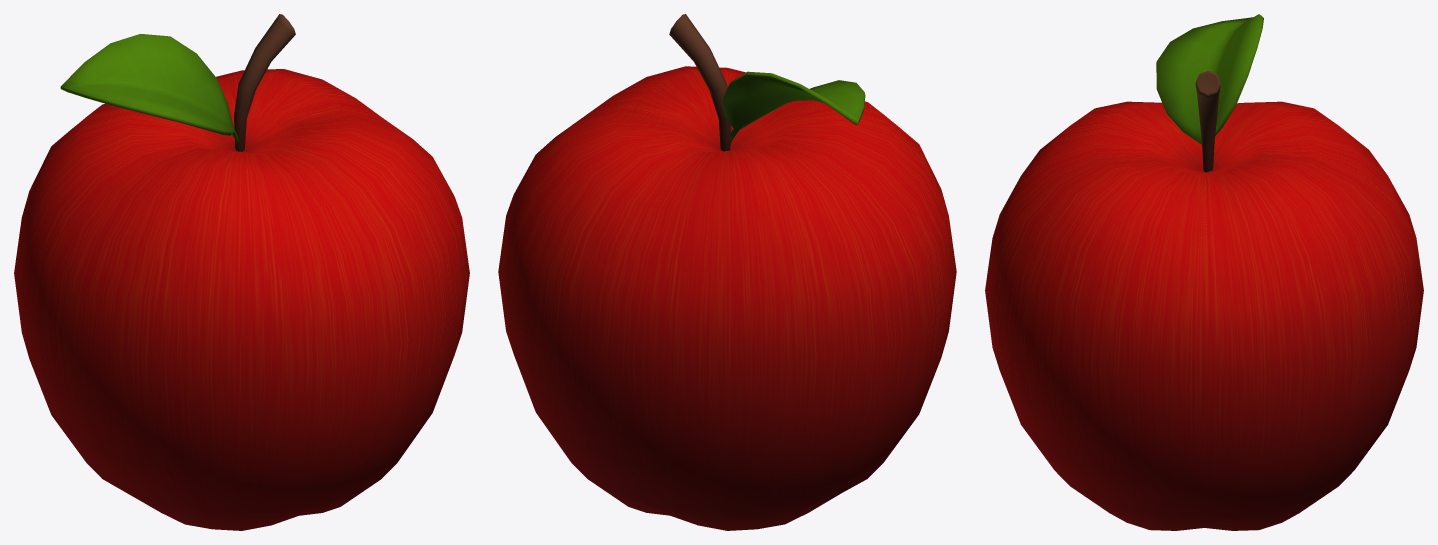
The model's file is fmanzana.glb.
3 renders of one model, left to right at view 1: azimuth 30°, elevation 25°; view 2: azimuth 150°, elevation 25°; view 3: azimuth 270°, elevation 25°, orthographic. The views are drawn at different scales.
Parts seen in each view (by area): view 1: Apple; view 2: Apple; view 3: Apple.
Boxes of the visible parts, x1=… form: Apple: x1=14, y1=14, x2=469, y2=530; Apple: x1=498, y1=14, x2=956, y2=530; Apple: x1=985, y1=14, x2=1423, y2=530.
Bounding box in the file's own units: 2.03 × 2.31 × 2.03.
Materials: 1 (1 with a texture image).
